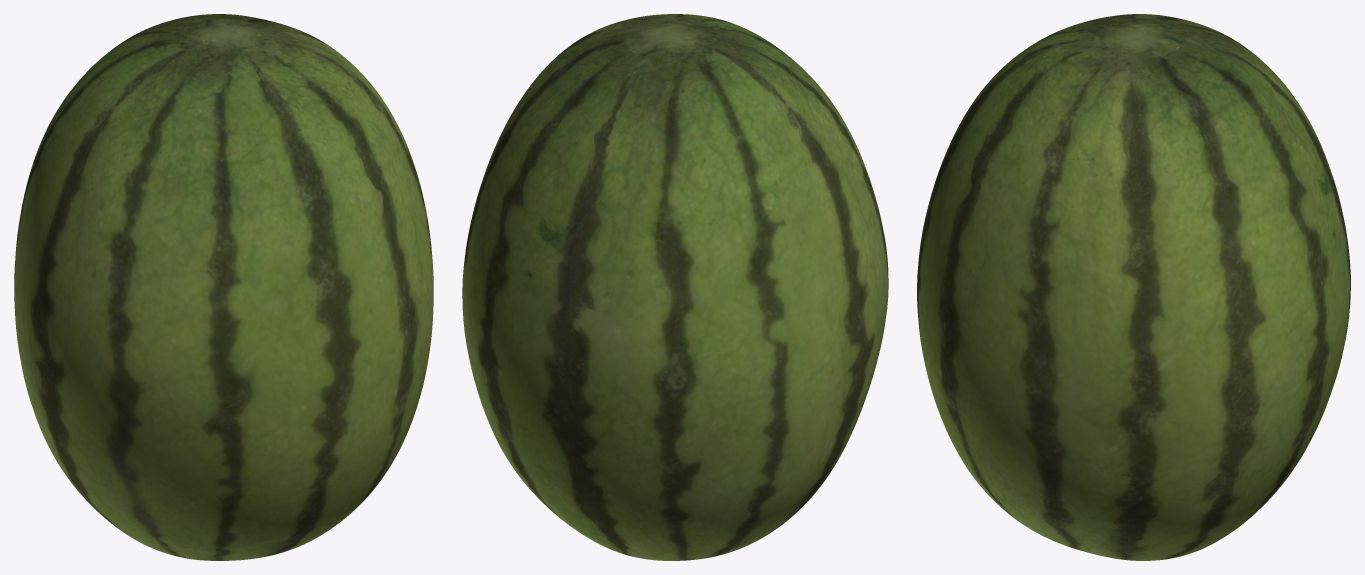
File: watermelon.obj
The picture shows the model from 3 angles, left to right: view 1: azimuth 30°, elevation 25°; view 2: azimuth 150°, elevation 25°; view 3: azimuth 270°, elevation 25°; orthographic projection.
Parts seen in each view (by area): view 1: Watermelon_Mesh; view 2: Watermelon_Mesh; view 3: Watermelon_Mesh.
Boxes of the visible parts, left/top/right/bottom form: Watermelon_Mesh: left=14, top=14, right=433, bottom=560; Watermelon_Mesh: left=462, top=14, right=888, bottom=560; Watermelon_Mesh: left=917, top=14, right=1350, bottom=560.
Bounding box in the file's own units: 19.71 × 26.26 × 20.17.
1 material, 1 textured.
